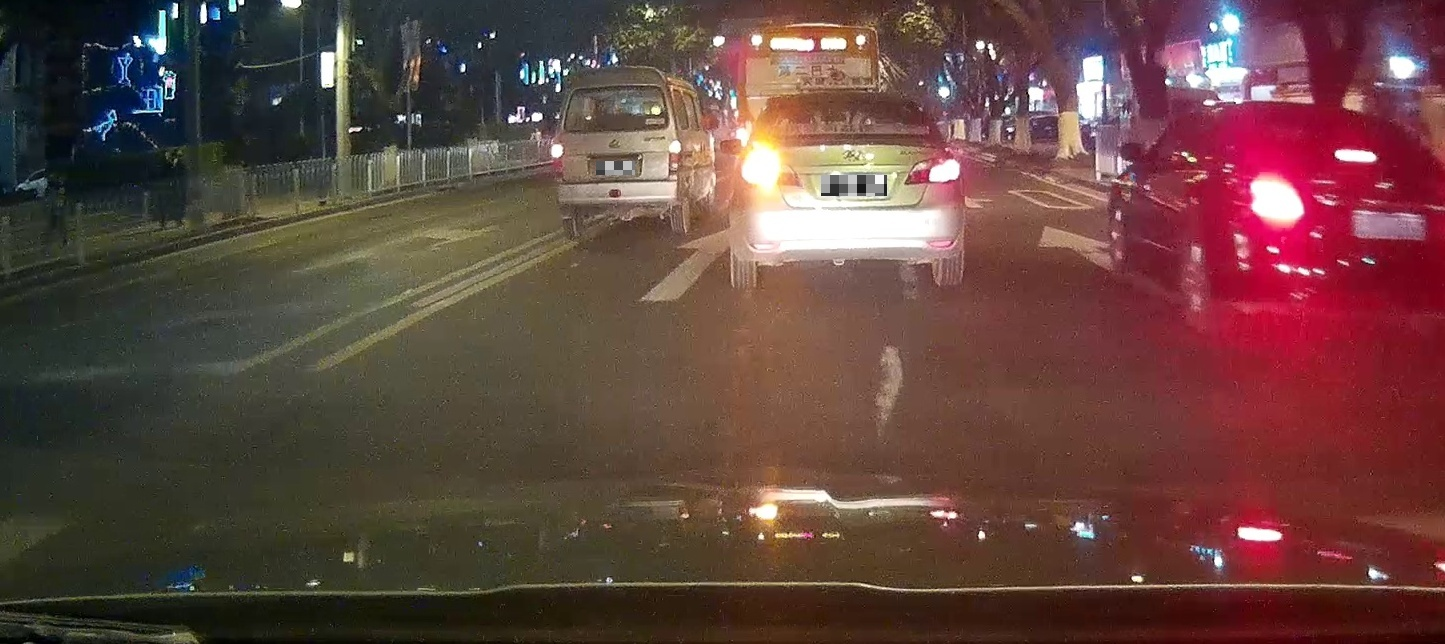L_light: (741, 145, 803, 188), (550, 144, 565, 178)
R_light: (904, 153, 960, 185), (668, 140, 682, 178)
T_light: (600, 127, 624, 132), (833, 93, 863, 97)
night-left: (729, 90, 961, 286)
night-no: (550, 65, 682, 238)
plate_1: (596, 161, 635, 175)
plate_2: (821, 175, 887, 196)
